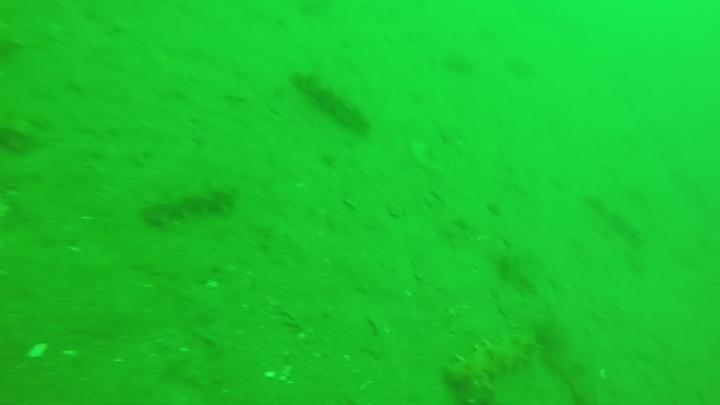holothurian: (440, 333, 539, 389), (293, 75, 371, 140), (140, 186, 247, 226)
